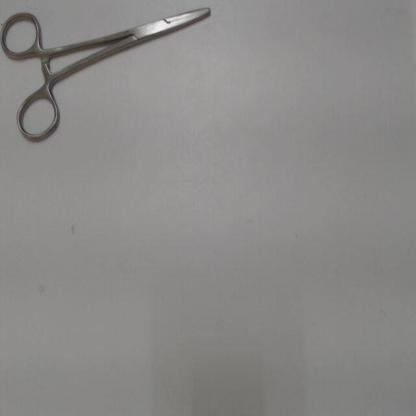Mayo Needle Holder: (0, 1, 224, 152)
